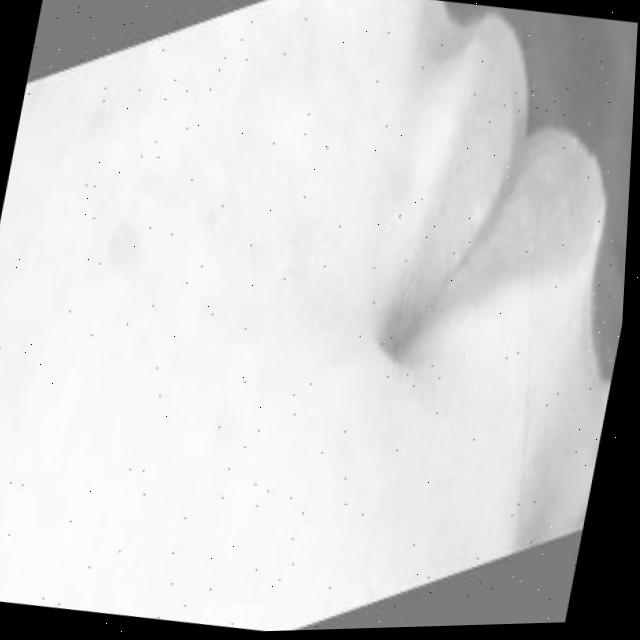Acne: (105, 227, 156, 270)
